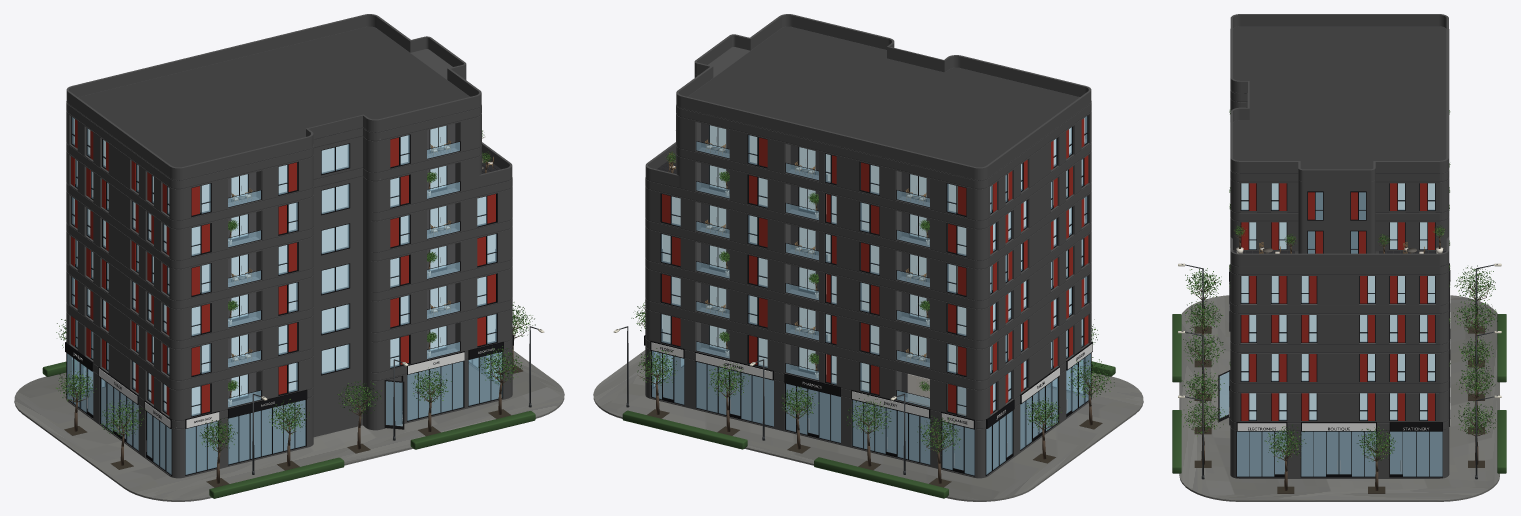
The model's file is GoldenHands3d_Building.glb.
3 renders of one model, left to right at view 1: azimuth 30°, elevation 25°; view 2: azimuth 150°, elevation 25°; view 3: azimuth 270°, elevation 25°, orthographic. The views are drawn at different scales.
Parts seen in each view (by area): view 1: Roof_Top, Site_Pavement, Walls_L5, Walls_L3, Walls_L4, Walls_L2, Walls_L7, Walls_L6, Floor, Parapet_Roof, Walls, Shopfront_Glass (+28 smaller); view 2: Roof_Top, Site_Pavement, Floor, Walls_L5, Walls_L3, Walls_L4, Shop4_Glass, Walls_L2, Walls_L7, Walls_L6, Parapet_Roof, Walls (+21 smaller); view 3: Roof_Top, Site_Pavement, ShopfrontE_Glass, Floor, Walls_L4, Walls_L5, Walls_L3, Walls_L2, Parapet_Roof, Terrace_Divider, Walls_L7, Walls_L6 (+41 smaller).
Boxes of the visible parts, <box> form: Roof_Top: <box>78,26,469,167</box>; Site_Pavement: <box>14,351,564,501</box>; Walls_L5: <box>66,177,512,300</box>; Walls_L3: <box>66,257,512,380</box>; Walls_L4: <box>66,217,512,340</box>; Walls_L2: <box>66,297,512,420</box>; Walls_L7: <box>66,26,481,220</box>; Walls_L6: <box>66,142,481,260</box>; Floor: <box>70,361,499,474</box>; Parapet_Roof: <box>66,14,481,179</box>; Walls: <box>66,337,512,478</box>; Shopfront_Glass: <box>67,353,171,474</box>; Roof_Top: <box>688,26,1079,167</box>; Site_Pavement: <box>593,350,1143,501</box>; Floor: <box>652,362,1087,474</box>; Walls_L5: <box>645,177,1091,300</box>; Walls_L3: <box>645,257,1091,380</box>; Walls_L4: <box>645,217,1091,340</box>; Shop4_Glass: <box>652,351,974,475</box>; Walls_L2: <box>645,297,1091,420</box>; Walls_L7: <box>676,26,1091,220</box>; Walls_L6: <box>676,142,1091,260</box>; Parapet_Roof: <box>676,14,1091,179</box>; Walls: <box>645,337,1091,478</box>; Roof_Top: <box>1233,26,1446,169</box>; Site_Pavement: <box>1179,295,1499,501</box>; ShopfrontE_Glass: <box>1237,431,1442,476</box>; Floor: <box>1237,431,1442,476</box>; Walls_L4: <box>1230,301,1449,344</box>; Walls_L5: <box>1230,248,1449,304</box>; Walls_L3: <box>1230,340,1449,383</box>; Walls_L2: <box>1230,379,1449,422</box>; Parapet_Roof: <box>1230,14,1448,173</box>; Terrace_Divider: <box>1298,180,1375,253</box>; Walls_L7: <box>1230,26,1449,212</box>; Walls_L6: <box>1230,209,1449,251</box>.
Size of what is drawn, in the model's own units: 42.9 by 29.56 by 29.5.
64 materials, 1 textured.
